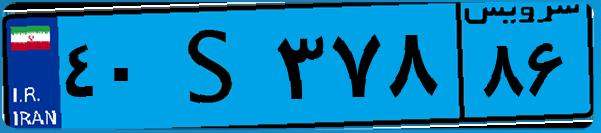0: (110, 28, 158, 98)
3: (270, 28, 330, 110)
4: (57, 26, 110, 100)
6: (525, 38, 570, 115)
7: (330, 28, 385, 110)
8: (385, 28, 445, 110), (475, 38, 525, 113)
S: (158, 12, 270, 120)
